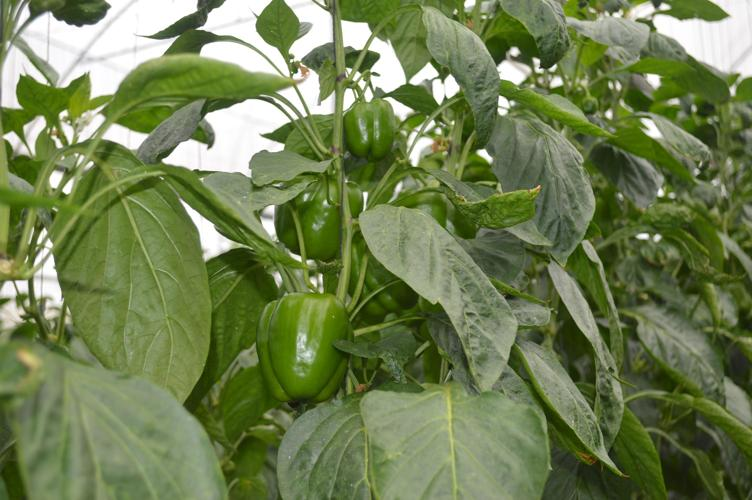BellPepper: (257, 294, 348, 398), (270, 179, 359, 259), (349, 253, 408, 316), (341, 97, 393, 160), (399, 183, 451, 224)
